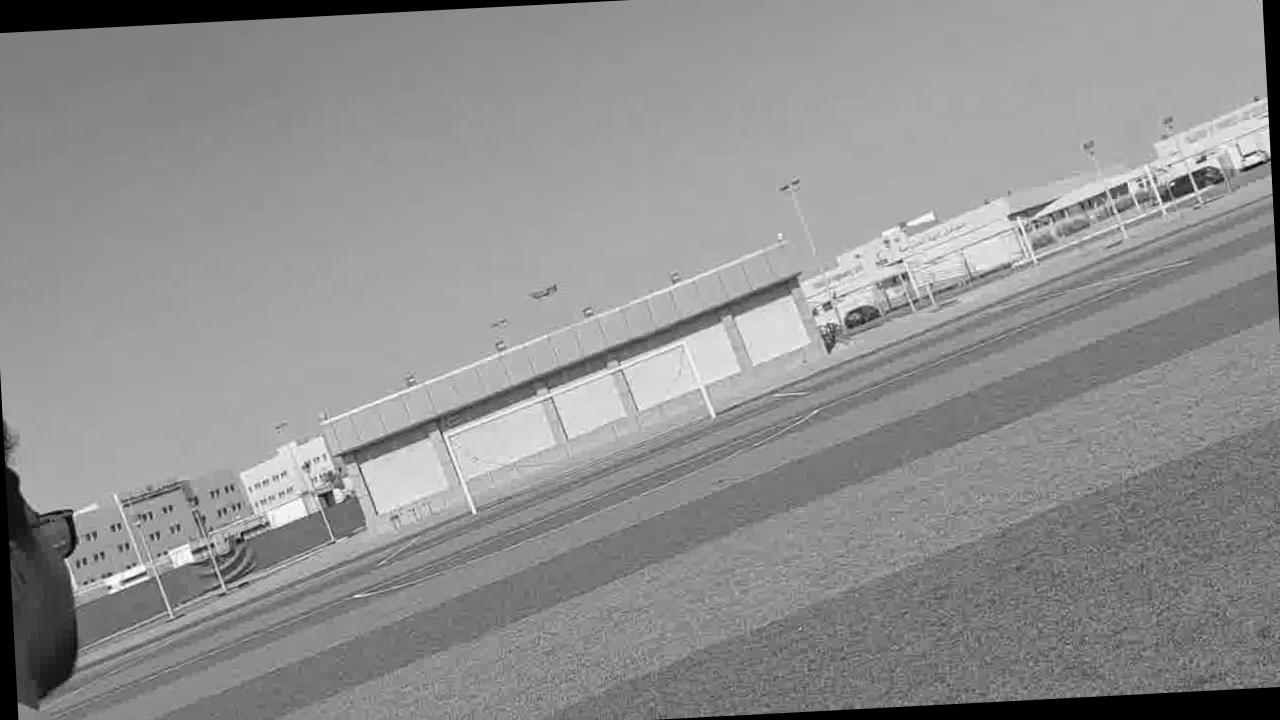drone: (520, 274, 570, 304)
